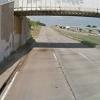Bridge: (17, 1, 96, 28)
